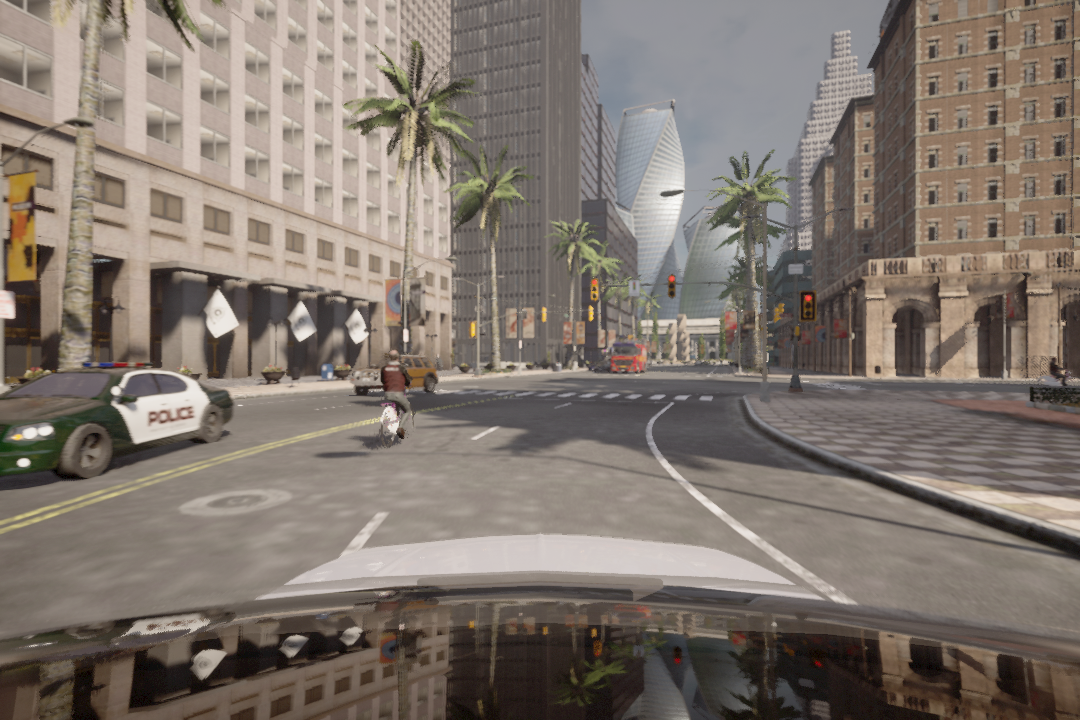TrafficLight: (801, 293, 814, 321), (587, 277, 598, 301), (667, 277, 677, 301)
walkside: (418, 384, 714, 406)
